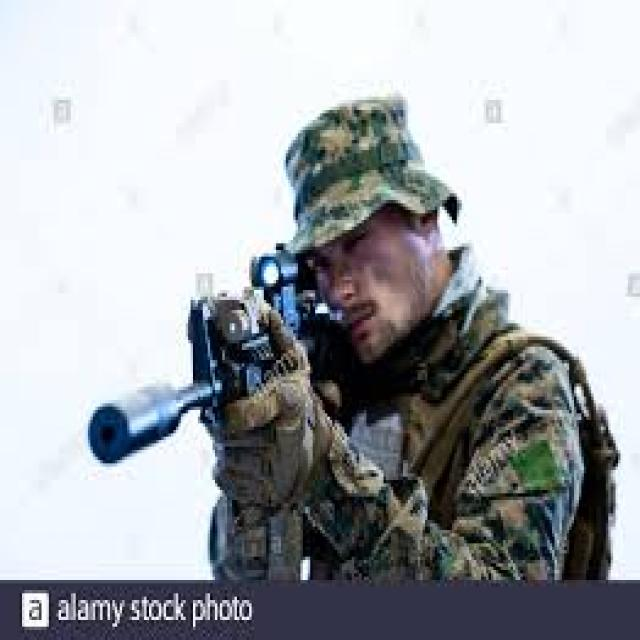soldier: (94, 116, 617, 583)
